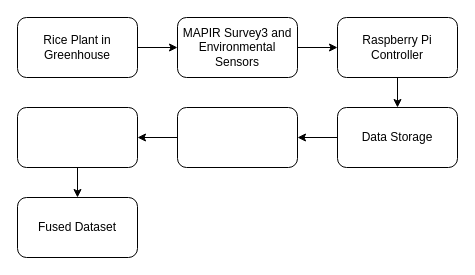
Image size: 475x275. Some labels were removed from this diagram. The shapes that lost their labels are listed below. From the top down, each one's centre as x and y in pixels, then its label:
At (x=77, y=137): "Ground Truth Labeling".
At (x=237, y=137): "Preprocessing Module".
